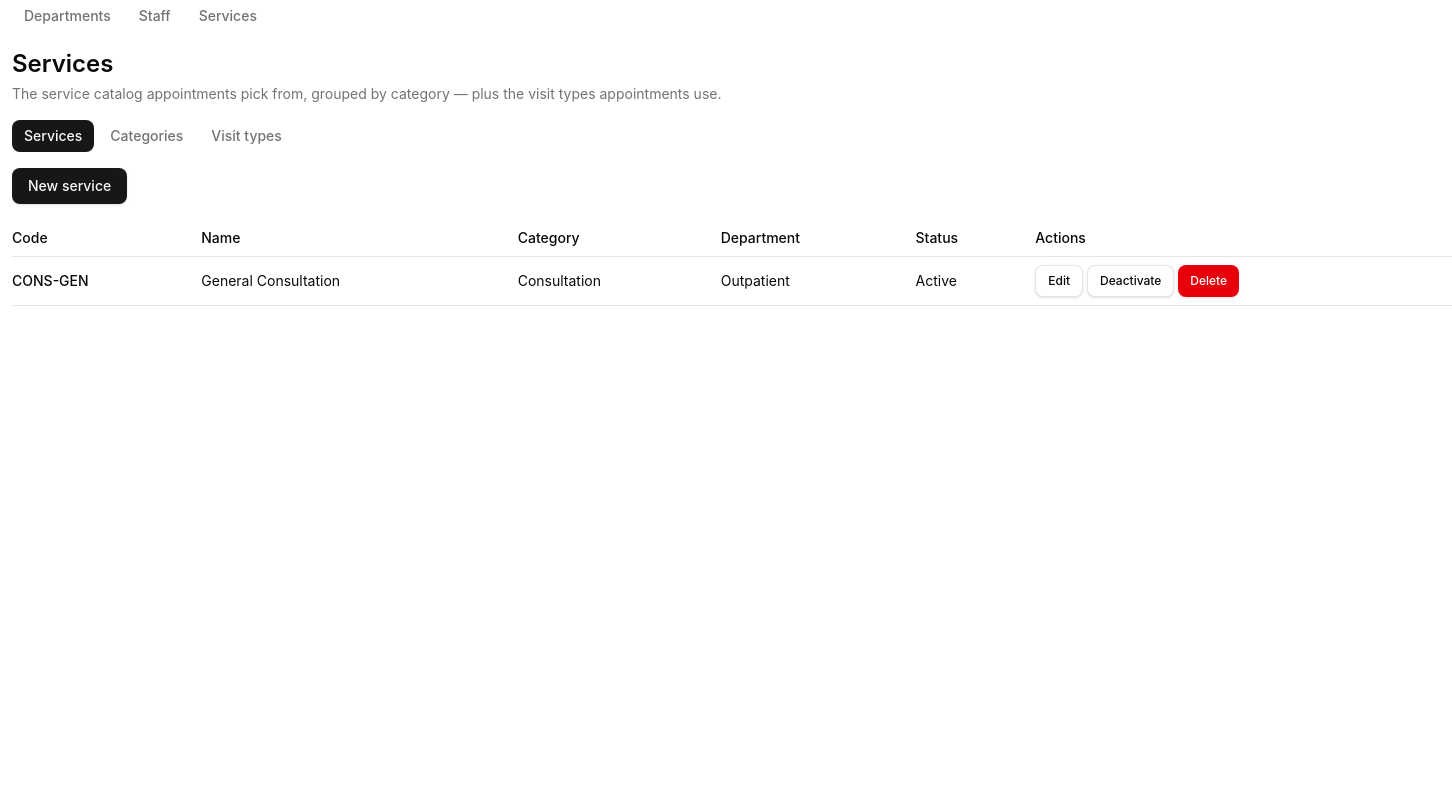
Test: ServicesPage › hides a deactivated category from the new-service form (FR-005)
Click the button "New service" at (70, 186), box [12,168,127,204]
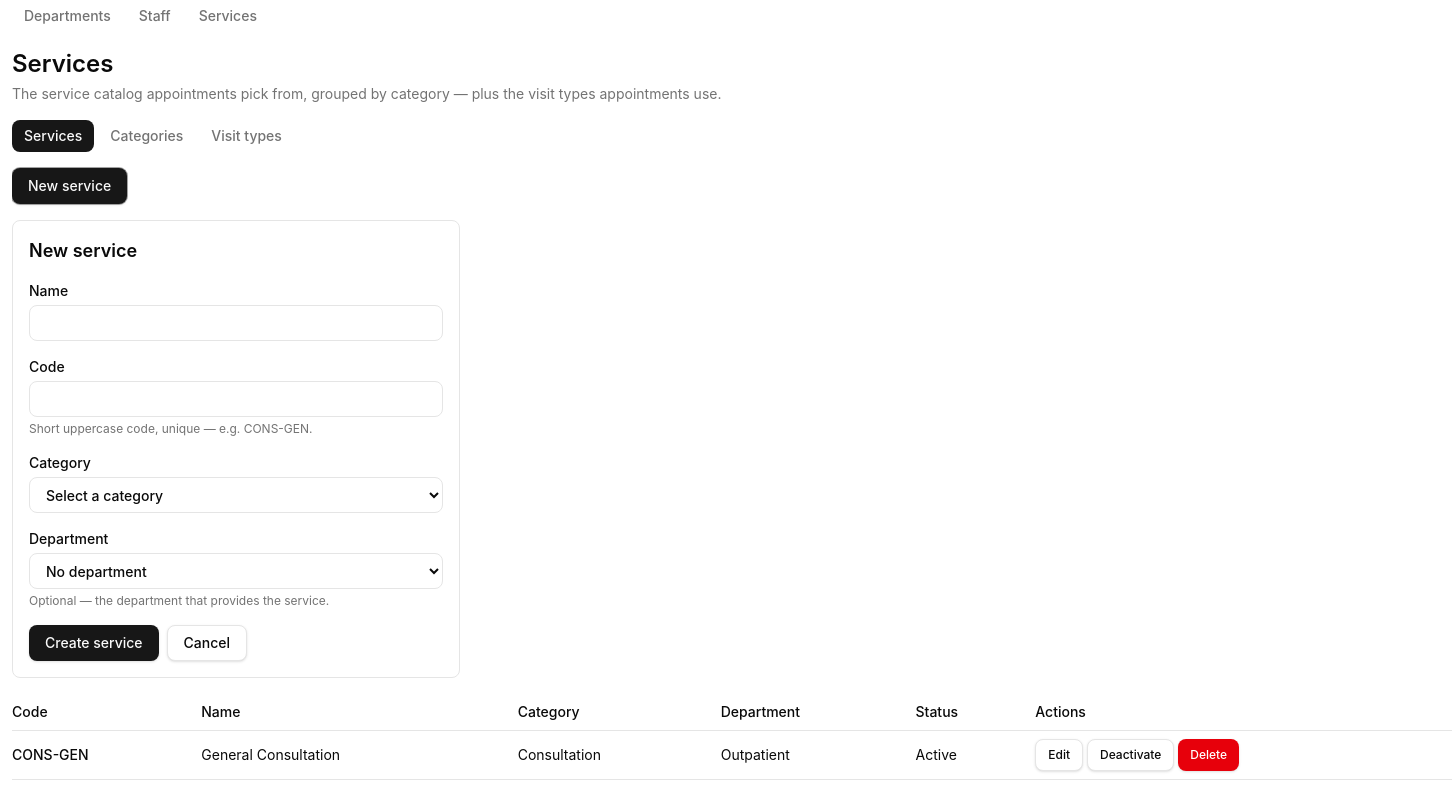
Expected: the option "Imaging" is not shown
// The deactivated category is still managed on the Categories tab.
Click the button "Cancel" at (207, 643), box [167,625,247,661]
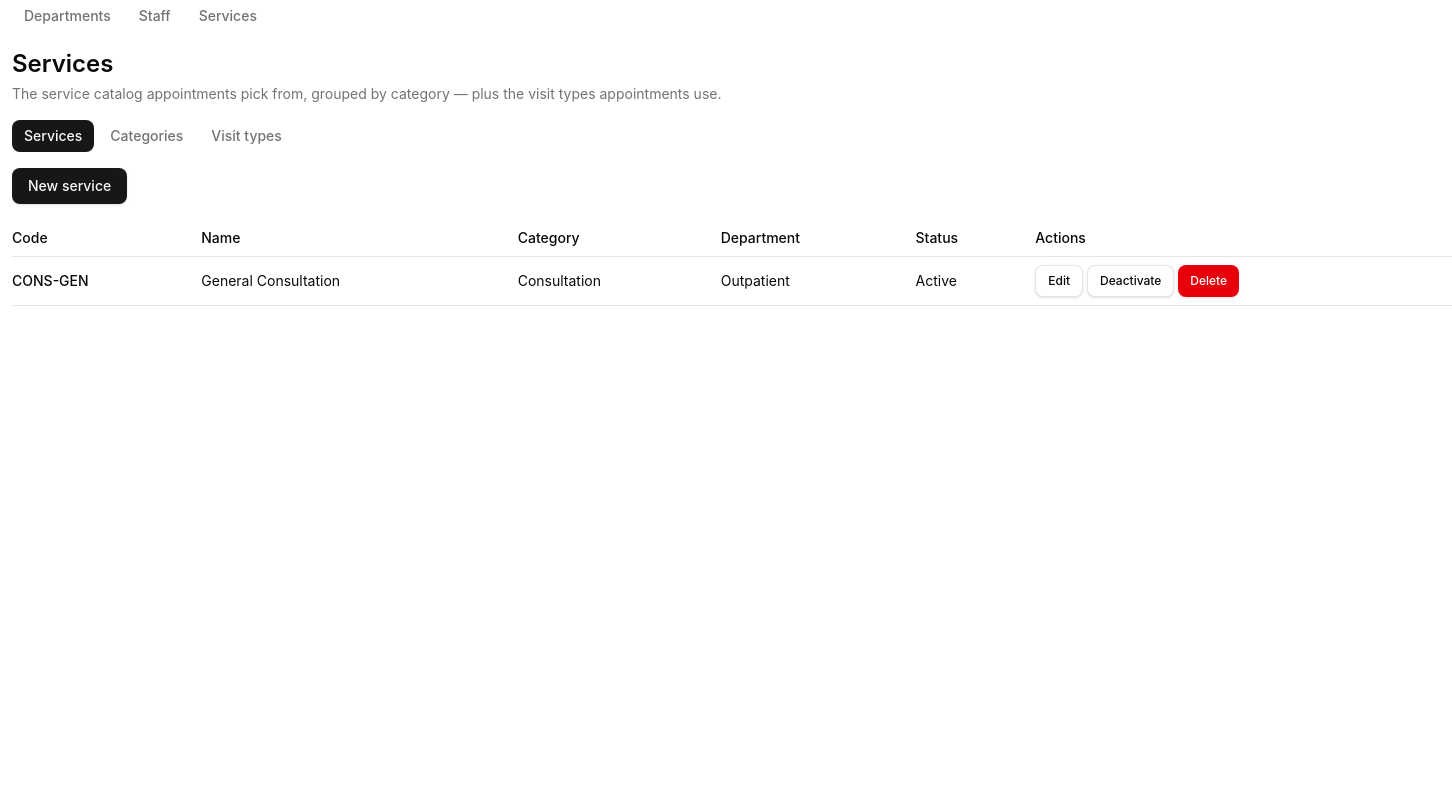
Click the button "Categories" at (147, 136), box [98,120,195,152]
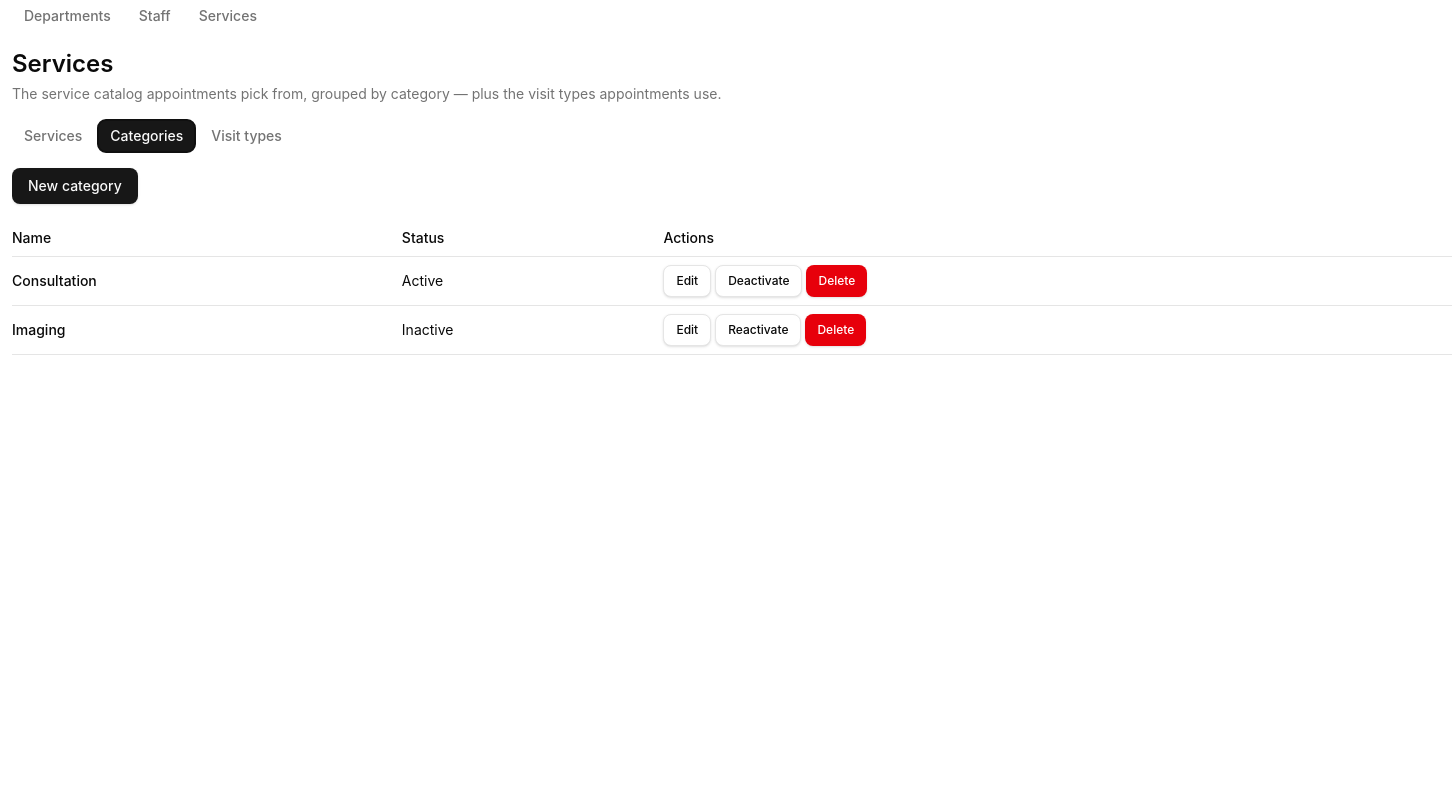
Expected: the text "Imaging" is shown, [12,306,402,354]
